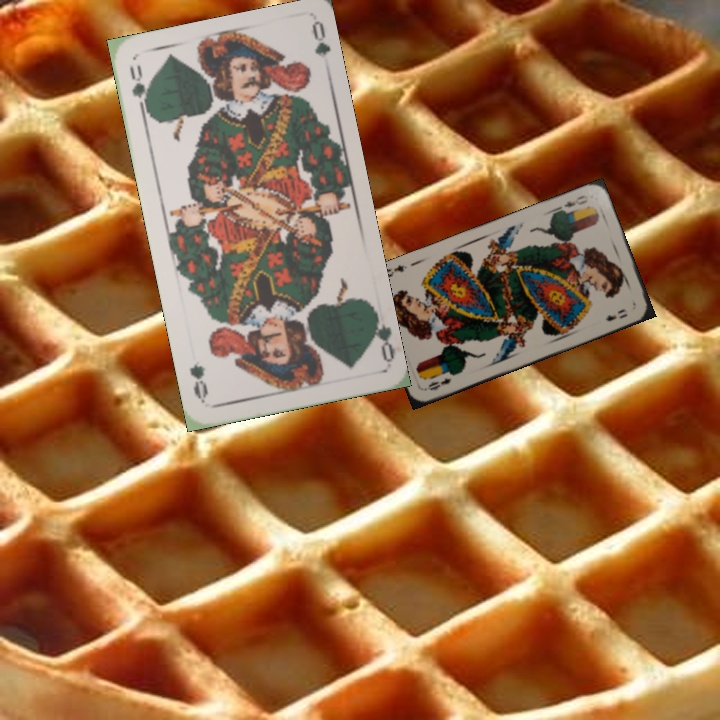EO: (553, 191, 591, 216), (421, 374, 453, 393)
GO: (366, 306, 397, 364), (125, 61, 153, 118)
